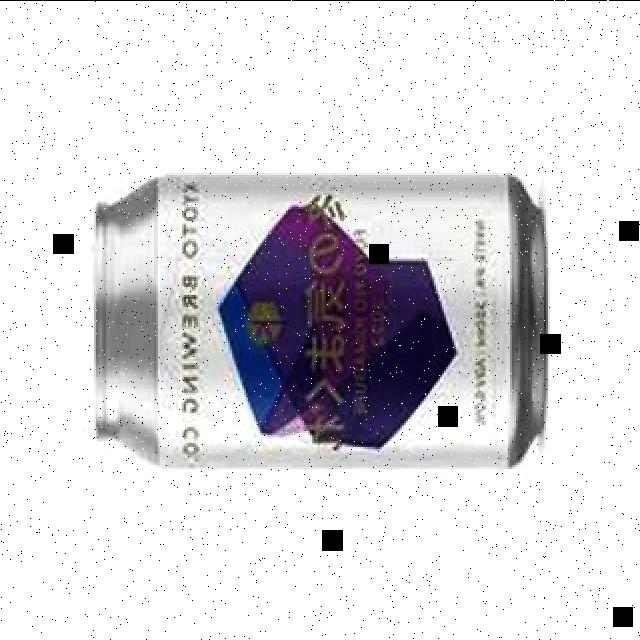can: (88, 170, 548, 470)
